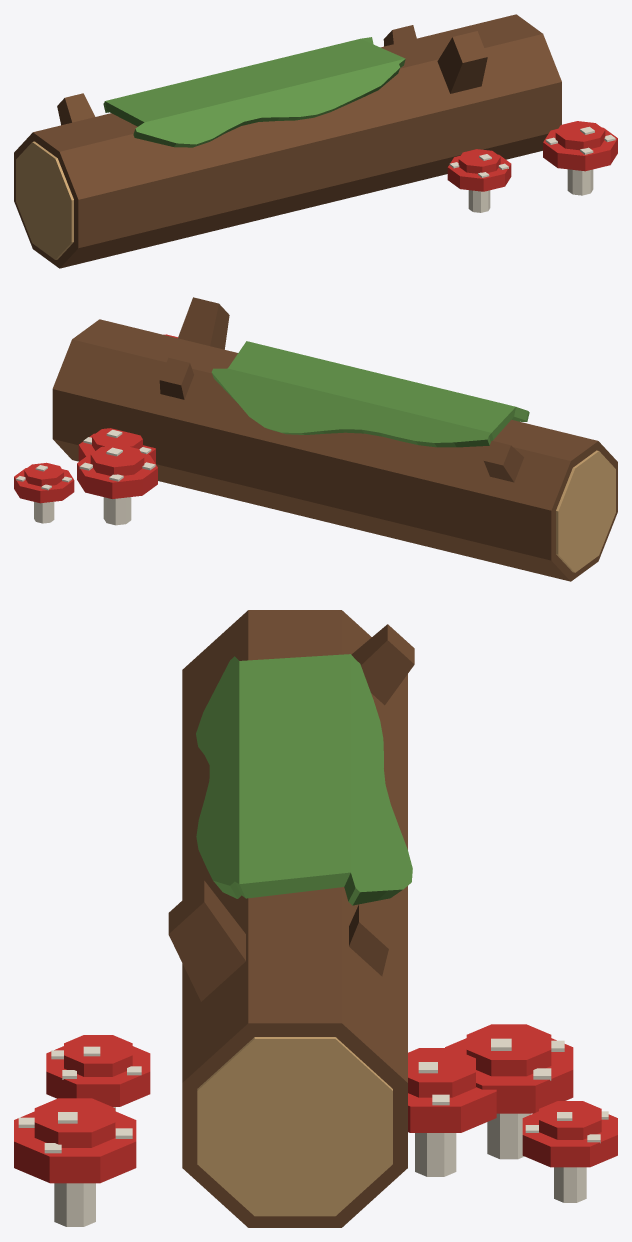
File: w1_logs.fbx
The picture shows the model from 3 angles, top to bottom: view 1: azimuth 30°, elevation 25°; view 2: azimuth 150°, elevation 25°; view 3: azimuth 270°, elevation 25°; orthographic projection. The views are drawn at different scales.
Visible parts, largest first — view 1: LogB.Bark, LogB.Moss, LogB.Ends, LogB.Caps, LogA.Caps, LogB.Stalks, LogA.Stalks, LogA.Bark; view 2: LogB.Bark, LogB.Moss, LogB.Ends, LogB.Caps, LogB.Stalks, LogA.Bark, LogA.Caps; view 3: LogB.Bark, LogB.Moss, LogB.Ends, LogB.Caps, LogA.Caps, LogB.Stalks, LogA.Stalks, LogA.Bark.
Part boxes in pixels (<box>): LogB.Bark: <box>14,14,561,268</box>; LogB.Moss: <box>103,37,405,147</box>; LogB.Ends: <box>16,141,73,259</box>; LogB.Caps: <box>543,121,617,171</box>; LogA.Caps: <box>447,149,511,191</box>; LogB.Stalks: <box>545,126,615,195</box>; LogA.Stalks: <box>449,154,508,212</box>; LogA.Bark: <box>383,25,416,46</box>; LogB.Bark: <box>52,297,617,581</box>; LogB.Moss: <box>211,341,529,447</box>; LogB.Ends: <box>556,450,615,572</box>; LogB.Caps: <box>14,334,177,503</box>; LogB.Stalks: <box>16,447,155,525</box>; LogA.Bark: <box>159,357,193,399</box>; LogA.Caps: <box>78,428,155,463</box>; LogB.Bark: <box>168,610,414,1227</box>; LogB.Moss: <box>196,654,412,905</box>; LogB.Ends: <box>197,1037,392,1216</box>; LogB.Caps: <box>14,1024,617,1183</box>; LogA.Caps: <box>46,1035,496,1132</box>; LogB.Stalks: <box>18,1038,608,1226</box>; LogA.Stalks: <box>51,1046,456,1176</box>; LogA.Bark: <box>349,904,388,976</box>.
Bounding box in the file's own units: 8.34 × 2.35 × 4.94.
